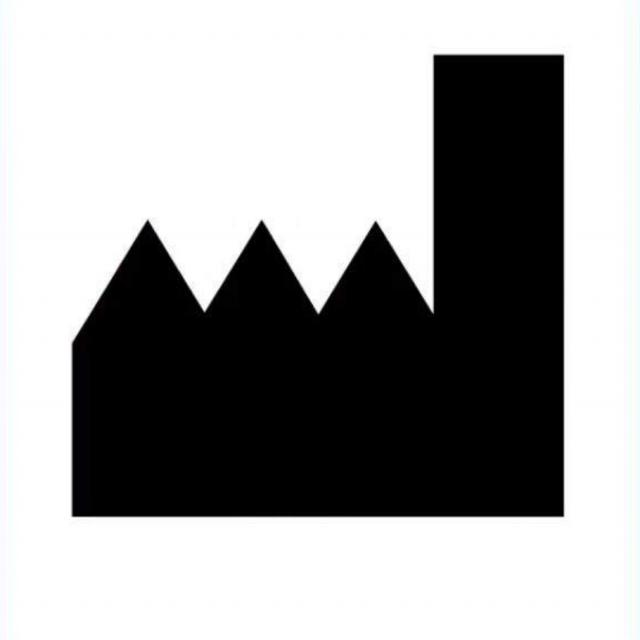Manufacturer: (74, 51, 567, 518)
